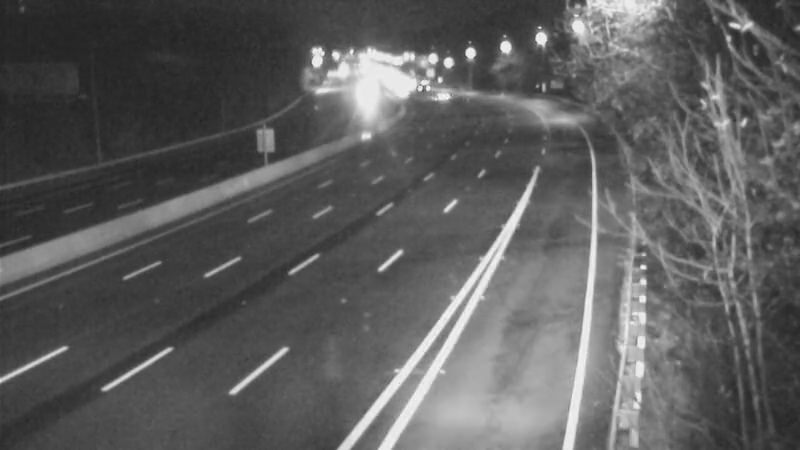vehicle: (378, 66, 428, 116), (417, 72, 467, 122)
